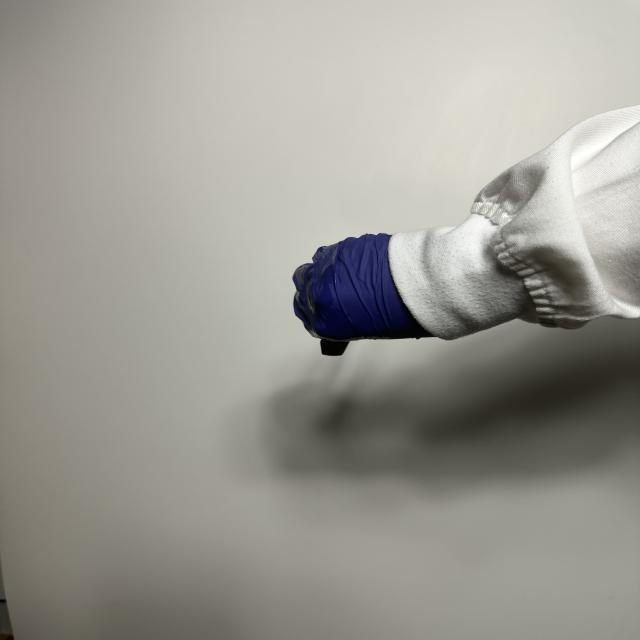gloves_contaminated: (293, 234, 431, 355)
